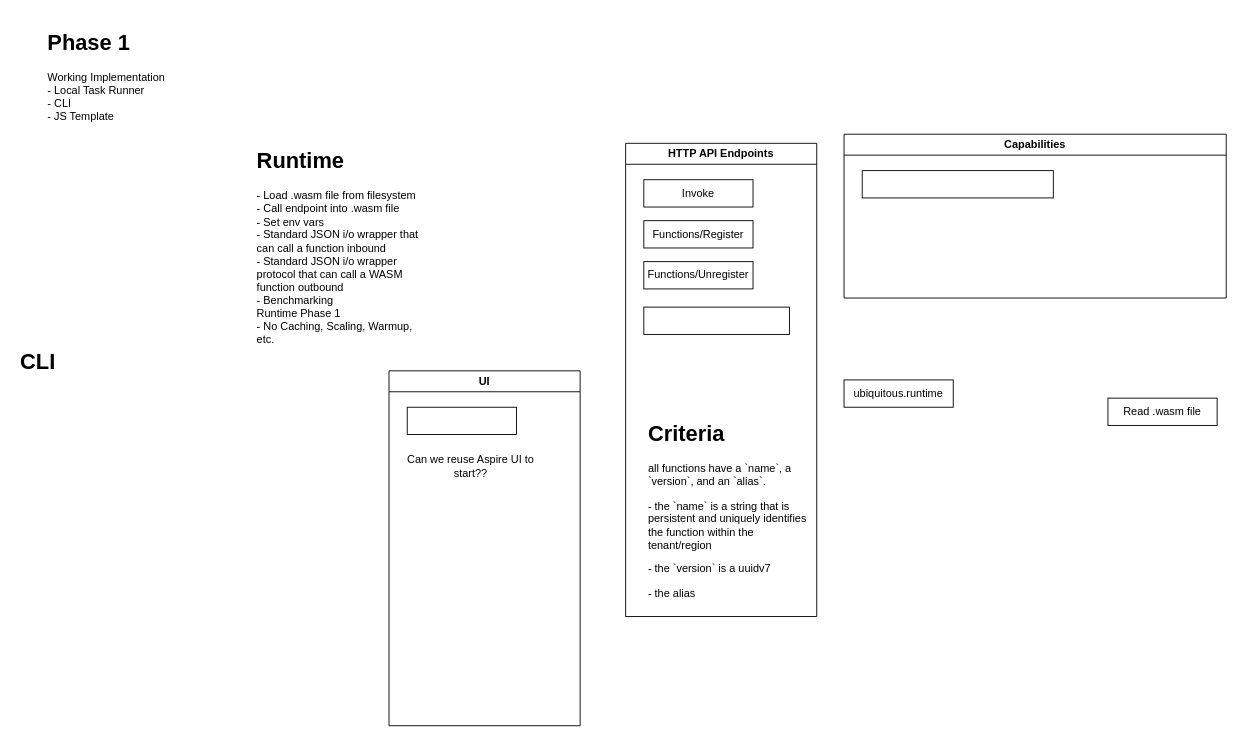
Some shapes in this 1242 by 742 pixel diagram are drawn without their labels. The centre of each missing label's shape, as x and y in pixels:
Client OAuth Login Endpoint: point (716, 320)
Trace Viewer: point (461, 420)
ubiq.functions.deployment.read/write: point (957, 184)
